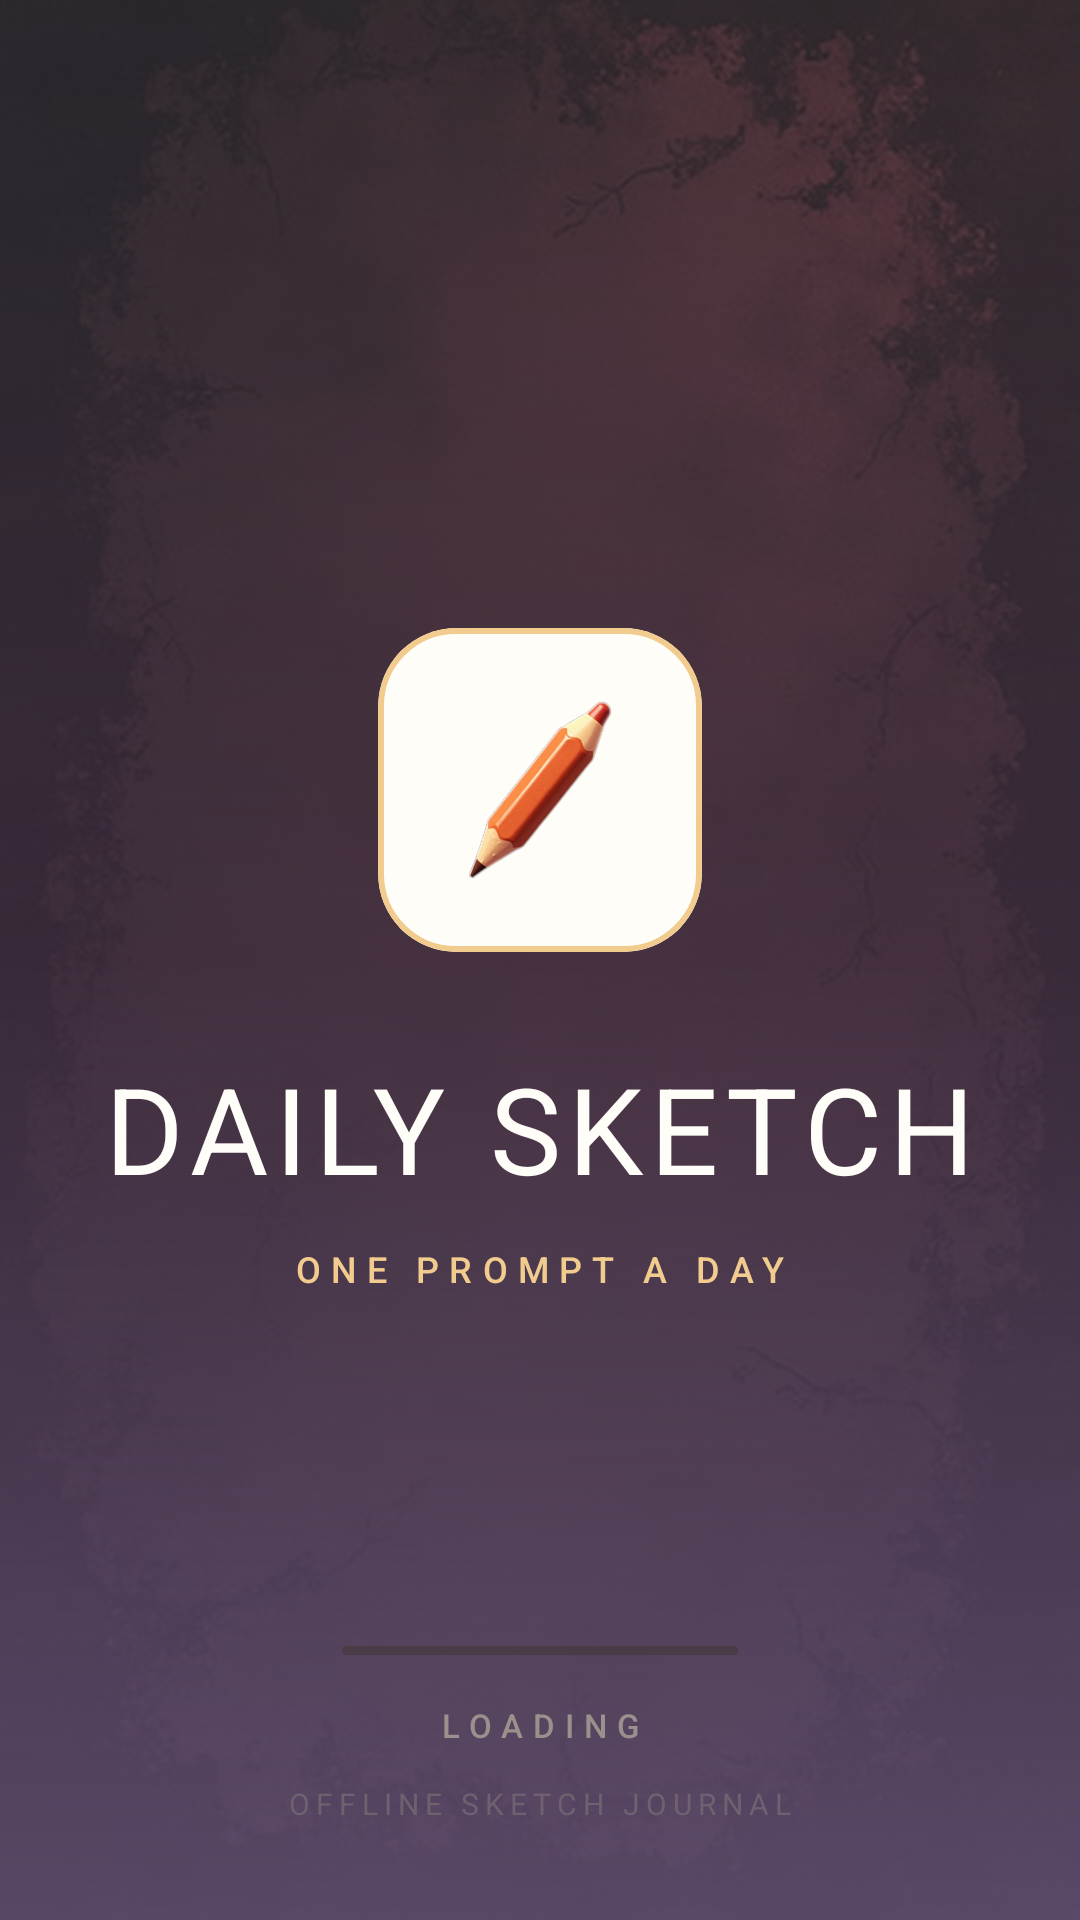

Point at icon controls on the screen. Image size 1080 × 1920, points as [x,y].
Daily Sketch pencil mark: [540,790]
